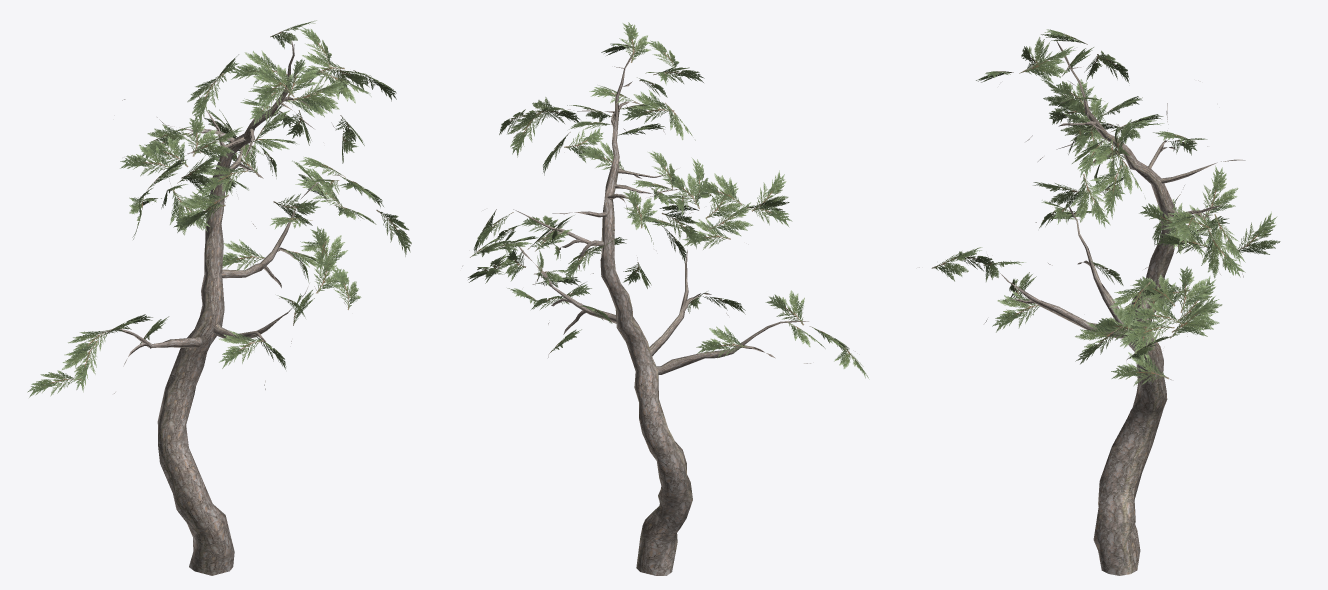
The model's file is juniper.glb.
The picture shows the model from 3 angles, left to right: view 1: azimuth 30°, elevation 25°; view 2: azimuth 150°, elevation 25°; view 3: azimuth 270°, elevation 25°; orthographic projection. The views are drawn at different scales.
Parts seen in each view (by area): view 1: Object_16, Object_14; view 2: Object_16, Object_14; view 3: Object_16, Object_14.
Part boxes in pixels (x1,y1,x2,y2): Object_16: (27,20,411,397); Object_14: (77,40,358,575); Object_16: (468,22,869,379); Object_14: (462,50,855,575); Object_16: (931,29,1280,386); Object_14: (919,40,1245,575).
Bounding box in the file's own units: 0.7802 × 1 × 0.6413.
2 materials, 2 textured.
